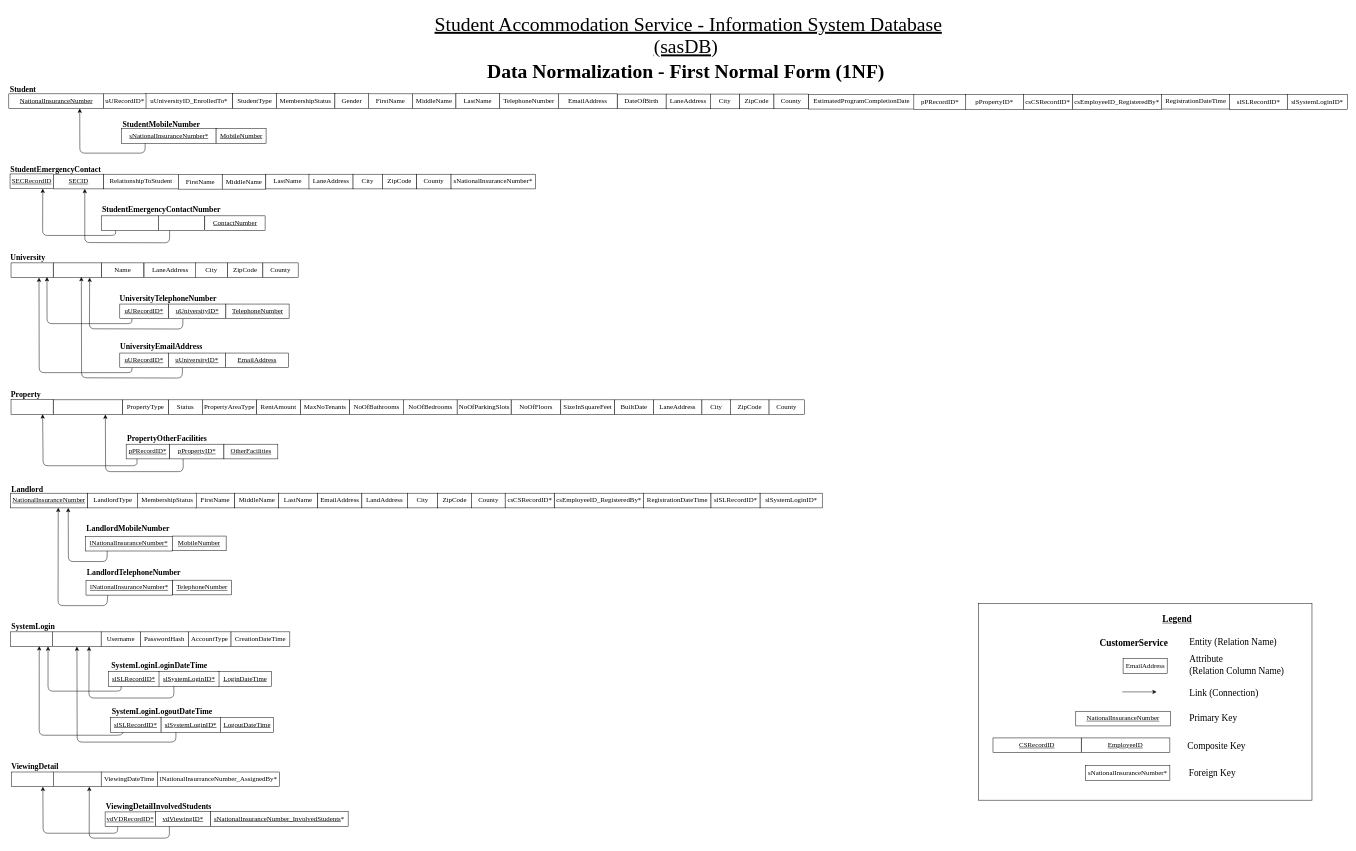
Some shapes in this 1356 by 851 pixel diagram are drawn without their labels. Each missing label, with the centre of its shape:
"PRecordID" goes at point 32,406.
"PropertyID" goes at point 88,407.
"secSECID*" goes at point 181,223.
"secSECRecordID*" goes at point 129,223.
"SLRecordID" goes at point 31,639.
"SystemLoginID" goes at point 76,639.
"UniversityID" goes at point 77,270.
"URecordID" goes at point 32,270.
"VDRecordID" goes at point 32,779.
"ViewingID" goes at point 76,779.
